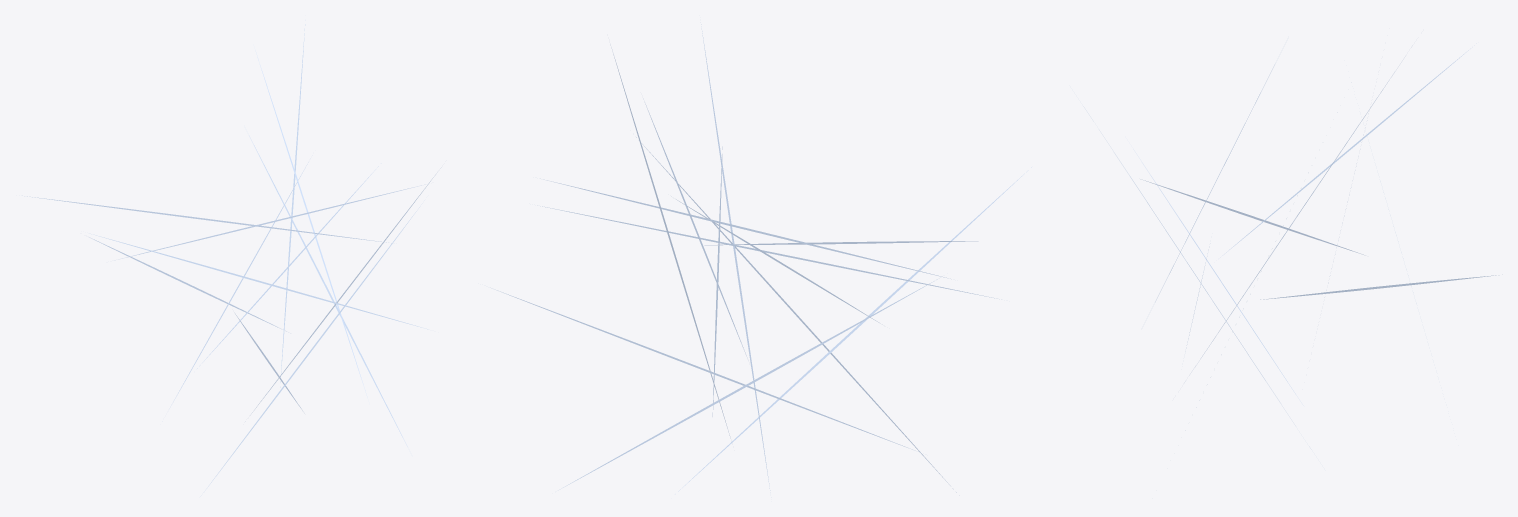
File: black-rain-end.glb
3 renders of one model, left to right at view 1: azimuth 30°, elevation 25°; view 2: azimuth 150°, elevation 25°; view 3: azimuth 270°, elevation 25°, orthographic. The views are drawn at different scales.
Parts seen in each view (by area): view 1: 黒雨・自作3D・end; view 2: 黒雨・自作3D・end; view 3: 黒雨・自作3D・end.
Boxes of the visible parts, box(x1,y1,x2,y2) form: 黒雨・自作3D・end: box(22, 20, 441, 496); 黒雨・自作3D・end: box(490, 22, 1031, 497); 黒雨・自作3D・end: box(1083, 43, 1502, 449).
Size of the model in its own units: 5.95 by 6.03 by 5.02.
